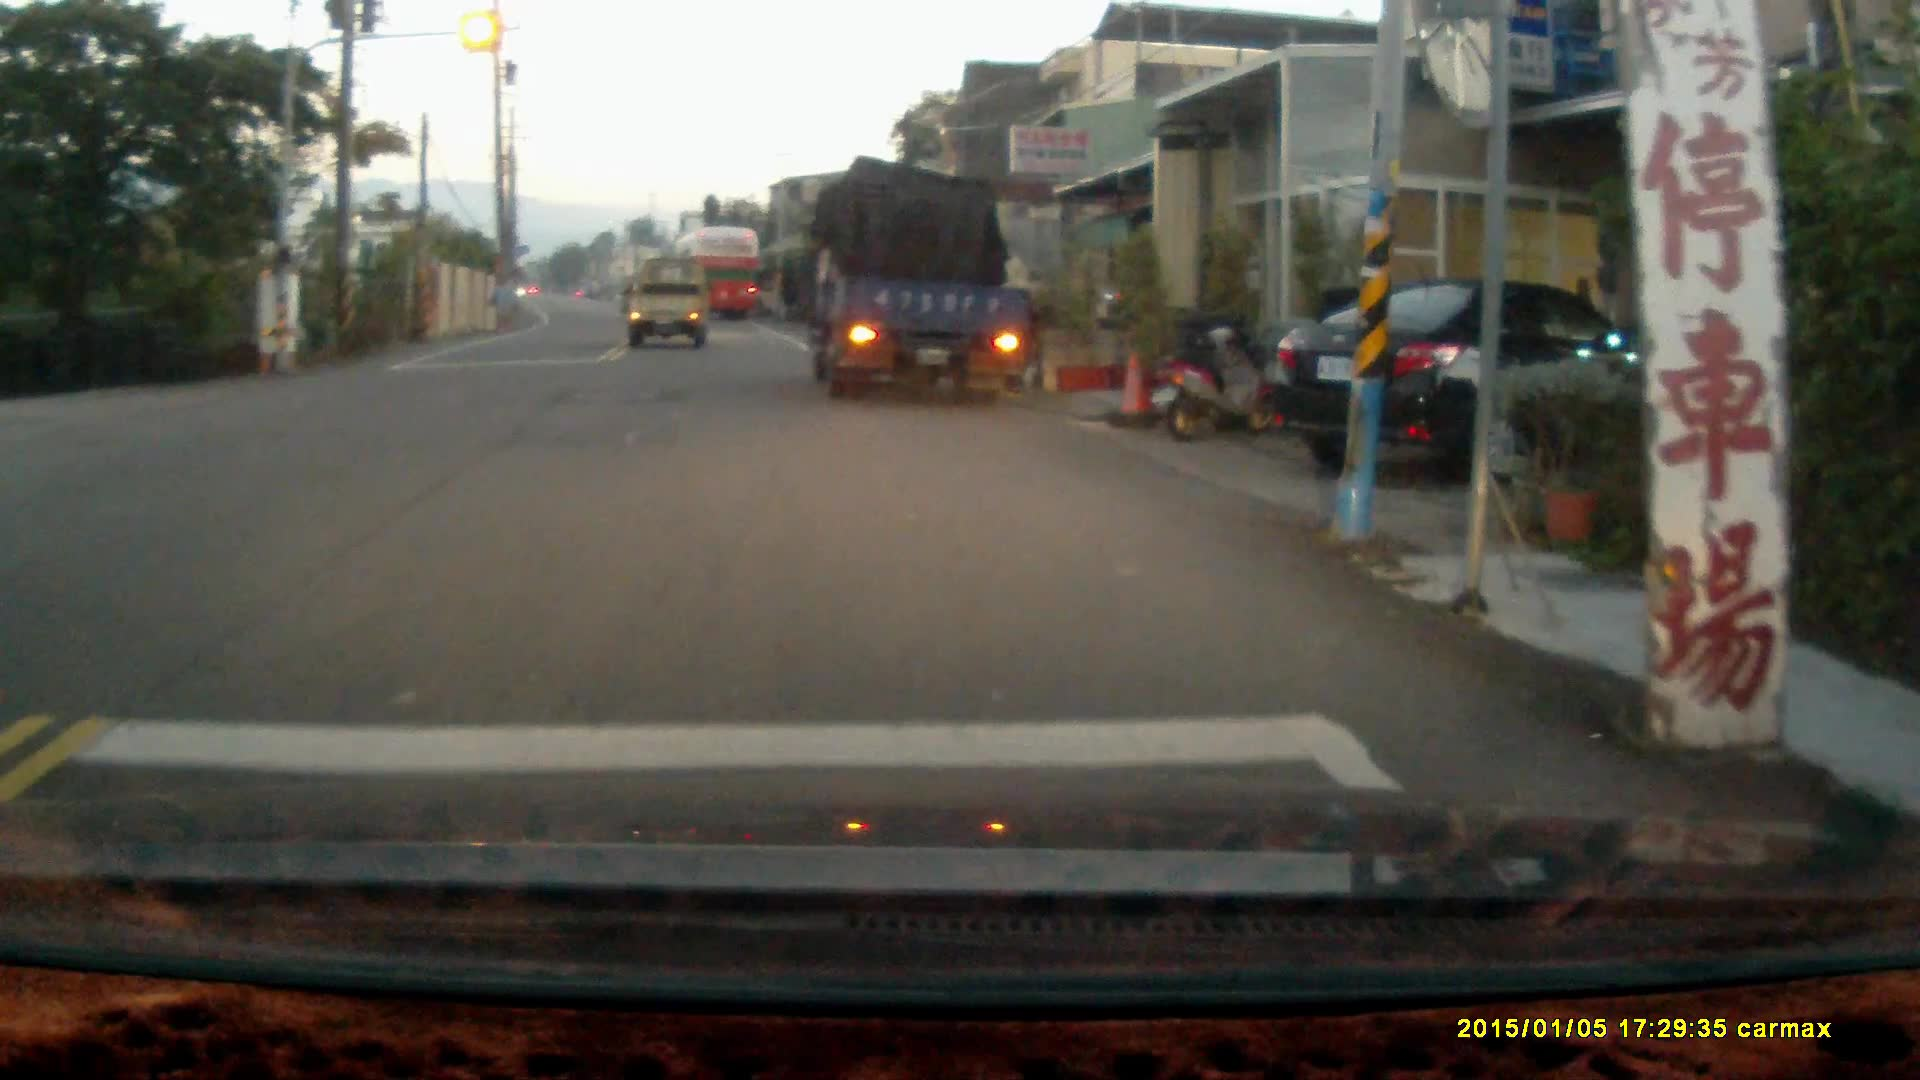vehicle: (1261, 282, 1701, 481), (799, 167, 1036, 401), (674, 229, 767, 330), (626, 262, 709, 347)
